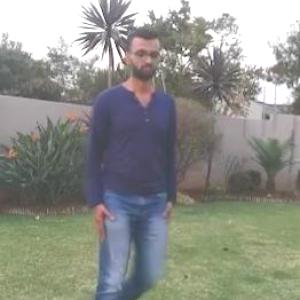follow: (84, 39, 154, 299)
